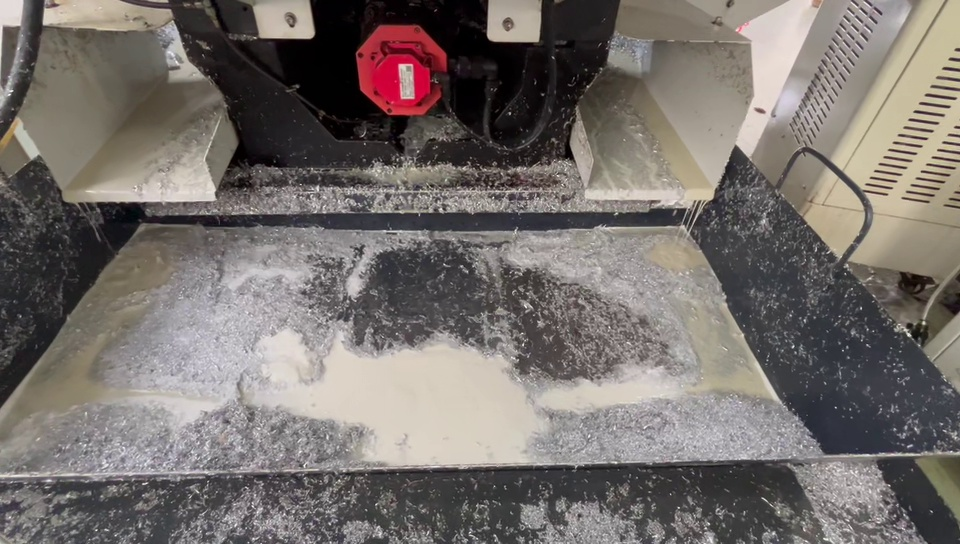iron_scrap: (16, 408, 343, 466), (547, 400, 811, 459), (115, 287, 247, 394), (520, 230, 704, 301), (155, 227, 348, 288), (803, 463, 901, 538), (226, 188, 349, 211)
